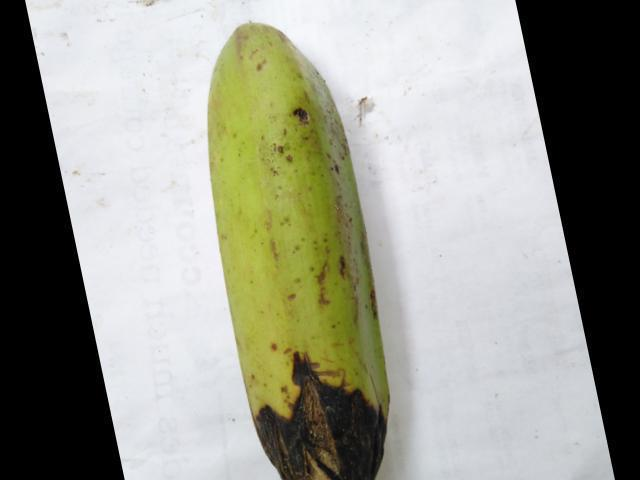rotten: (226, 337, 404, 479)
unripe: (179, 14, 400, 372)
